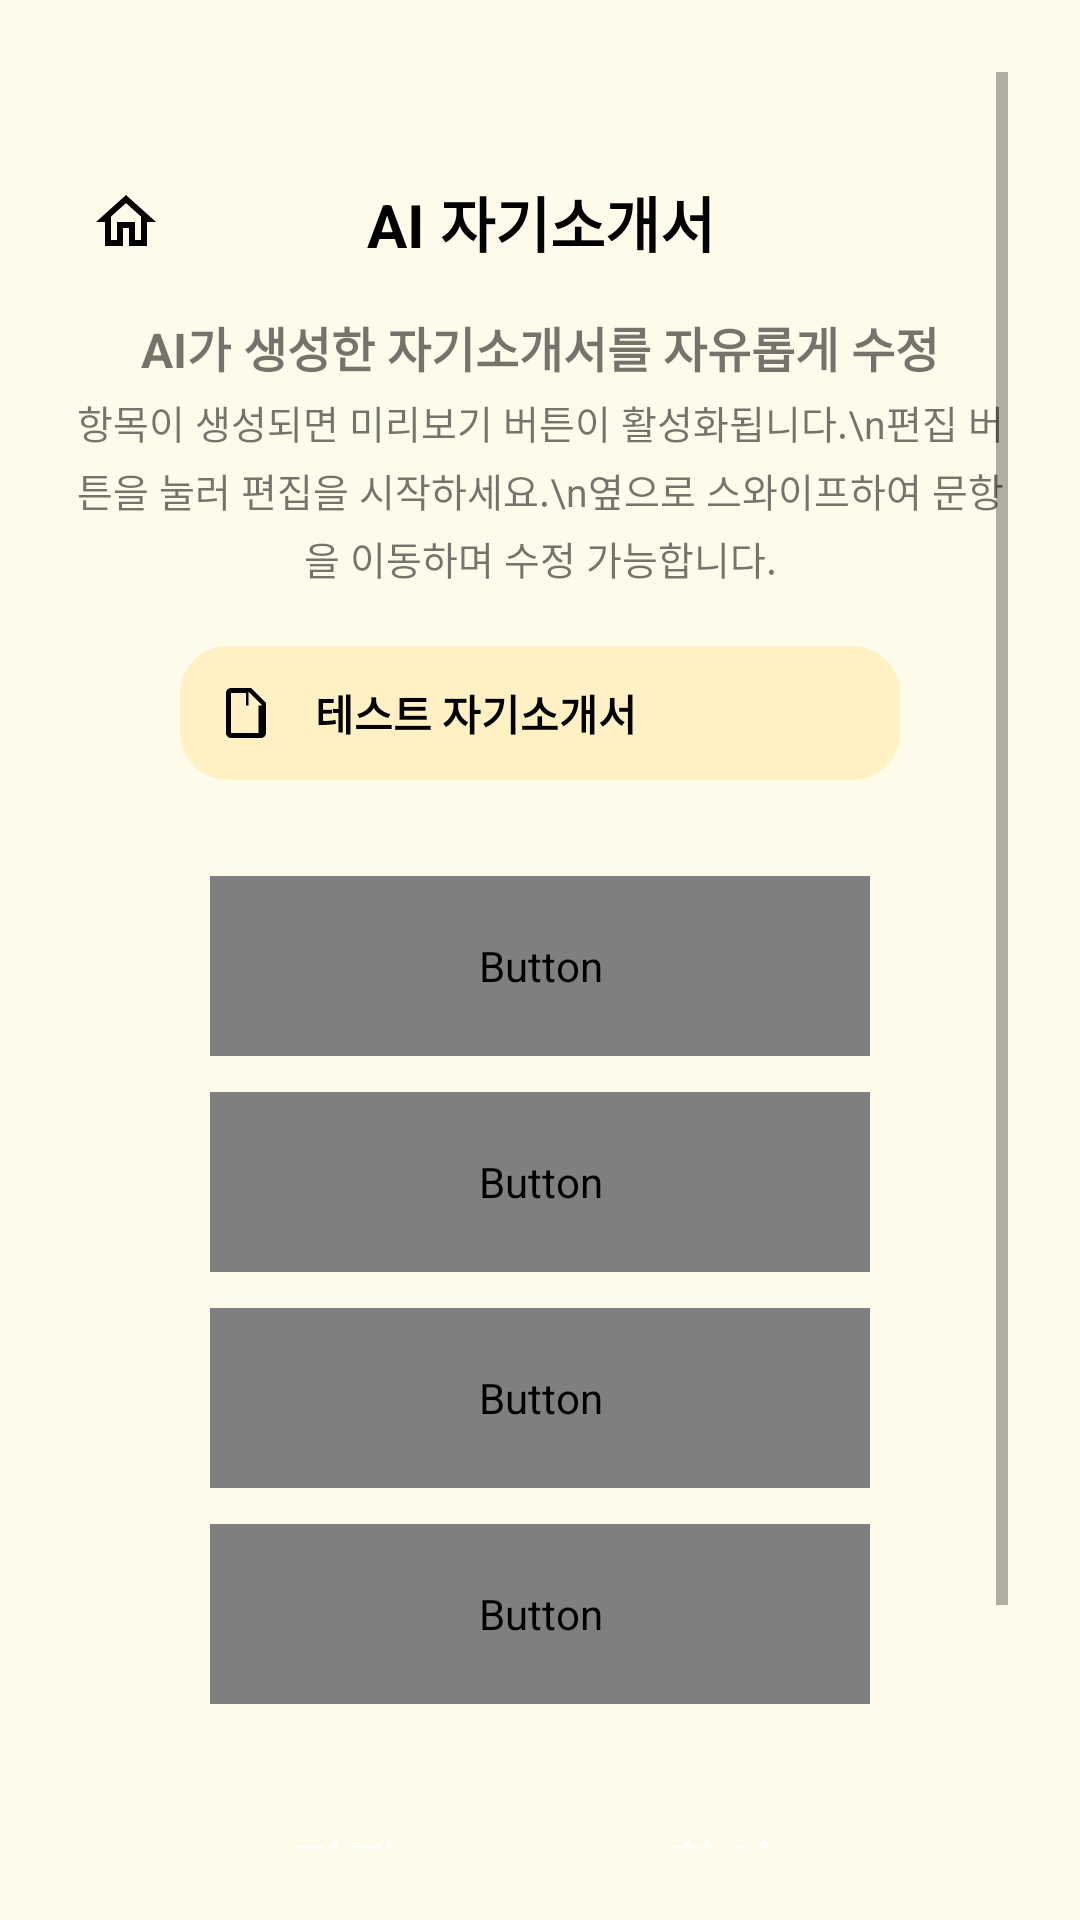

Icons on this 1080x1920 Android screen, each with its box as [x1, y1, x2, y2]:
home: [96, 195, 156, 246]
문서: [226, 688, 266, 738]
